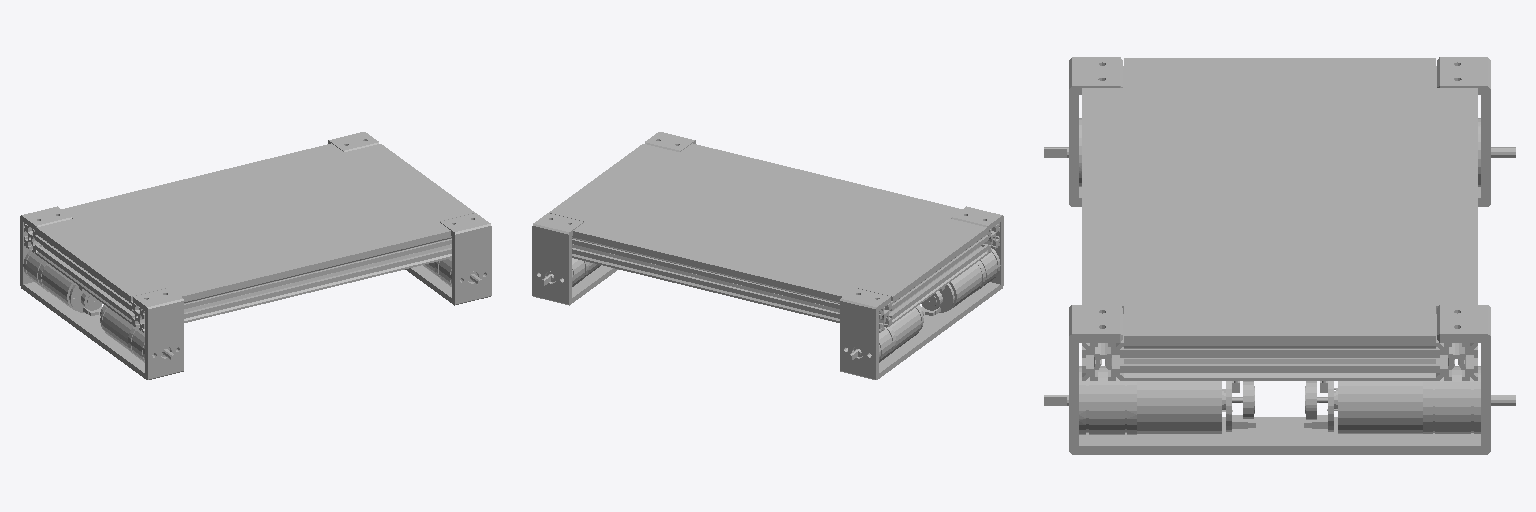
URDF robot description (work_description):
<?xml version="1.0" encoding="utf-8"?>
<!-- This URDF was automatically created by SolidWorks to URDF Exporter! Originally created by [author] ([email redacted]) 
     Commit Version: 1.6.0-4-g7f85cfe  Build Version: 1.6.7995.38578
     For more information, please see http://wiki.ros.org/sw_urdf_exporter -->
<robot
  name="work_description">
  <link
    name="base_link">
    <inertial>
      <origin
        xyz="-1.6536E-16 5.3437E-17 -0.015636"
        rpy="0 0 0" />
      <mass
        value="0.36521" />
      <inertia
        ixx="0.00039748"
        ixy="-4.0792E-09"
        ixz="7.1512E-18"
        iyy="0.00072454"
        iyz="-1.3042E-18"
        izz="0.0010802" />
    </inertial>
    <visual>
      <origin
        xyz="0 0 0"
        rpy="0 0 0" />
      <geometry>
        <mesh
          filename="package://work_description/meshes/base_link.STL" />
      </geometry>
      <material
        name="">
        <color
          rgba="0.75294 0.75294 0.75294 1" />
      </material>
    </visual>
    <collision>
      <origin
        xyz="0 0 0"
        rpy="0 0 0" />
      <geometry>
        <mesh
          filename="package://work_description/meshes/base_link.STL" />
      </geometry>
    </collision>
  </link>
  <link
    name="fr_wheel_link">
    <inertial>
      <origin
        xyz="1.66533453693773E-16 -0.0115706302587884 5.96744875736022E-16"
        rpy="0 0 0" />
      <mass
        value="0.0419122672527564" />
      <inertia
        ixx="3.67885981146547E-06"
        ixy="6.45200877791362E-23"
        ixz="-2.38393452537783E-21"
        iyy="3.56707503790107E-06"
        iyz="8.98318145232588E-22"
        izz="3.67885981146549E-06" />
    </inertial>
    <visual>
      <origin
        xyz="0 0 0"
        rpy="0 0 0" />
      <geometry>
        <mesh
          filename="package://work_description/meshes/fr_wheel_link.STL" />
      </geometry>
      <material
        name="">
        <color
          rgba="0.752941176470588 0.752941176470588 0.752941176470588 1" />
      </material>
    </visual>
    <collision>
      <origin
        xyz="0 0 0"
        rpy="0 0 0" />
      <geometry>
        <mesh
          filename="package://work_description/meshes/fr_wheel_link.STL" />
      </geometry>
    </collision>
  </link>
  <joint
    name="fr_wheel_joint"
    type="continuous">
    <origin
      xyz="0.10615 -0.085325 -0.0303"
      rpy="0 0 0" />
    <parent
      link="base_link" />
    <child
      link="fr_wheel_link" />
    <axis
      xyz="0 -1 0" />
  </joint>
  <link
    name="fl_wheel_link">
    <inertial>
      <origin
        xyz="5.49560397189452E-15 0.0115948509779991 -7.70217223333702E-16"
        rpy="0 0 0" />
      <mass
        value="0.0419122672520916" />
      <inertia
        ixx="3.6788853190231E-06"
        ixy="-1.12496563307212E-21"
        ixz="9.30180174214532E-21"
        iyy="3.56689493673297E-06"
        iyz="-7.02557693849277E-22"
        izz="3.67888531902309E-06" />
    </inertial>
    <visual>
      <origin
        xyz="0 0 0"
        rpy="0 0 0" />
      <geometry>
        <mesh
          filename="package://work_description/meshes/fl_wheel_link.STL" />
      </geometry>
      <material
        name="">
        <color
          rgba="0.752941176470588 0.752941176470588 0.752941176470588 1" />
      </material>
    </visual>
    <collision>
      <origin
        xyz="0 0 0"
        rpy="0 0 0" />
      <geometry>
        <mesh
          filename="package://work_description/meshes/fl_wheel_link.STL" />
      </geometry>
    </collision>
  </link>
  <joint
    name="fl_wheel_joint"
    type="continuous">
    <origin
      xyz="0.10615 0.085325 -0.0303"
      rpy="0 0 0" />
    <parent
      link="base_link" />
    <child
      link="fl_wheel_link" />
    <axis
      xyz="0 1 0" />
  </joint>
  <link
    name="br_wheel_link">
    <inertial>
      <origin
        xyz="5.74540415243519E-15 -0.0114994298530527 -2.81025203108243E-16"
        rpy="0 0 0" />
      <mass
        value="0.0419122672520916" />
      <inertia
        ixx="3.6788853190231E-06"
        ixy="-5.97224402263286E-22"
        ixz="9.4794898198577E-21"
        iyy="3.56689493673298E-06"
        iyz="-2.31610571514848E-22"
        izz="3.6788853190231E-06" />
    </inertial>
    <visual>
      <origin
        xyz="0 0 0"
        rpy="0 0 0" />
      <geometry>
        <mesh
          filename="package://work_description/meshes/br_wheel_link.STL" />
      </geometry>
      <material
        name="">
        <color
          rgba="0.752941176470588 0.752941176470588 0.752941176470588 1" />
      </material>
    </visual>
    <collision>
      <origin
        xyz="0 0 0"
        rpy="0 0 0" />
      <geometry>
        <mesh
          filename="package://work_description/meshes/br_wheel_link.STL" />
      </geometry>
    </collision>
  </link>
  <joint
    name="br_wheel_joint"
    type="continuous">
    <origin
      xyz="-0.10615 -0.085325 -0.0303"
      rpy="0 0 0" />
    <parent
      link="base_link" />
    <child
      link="br_wheel_link" />
    <axis
      xyz="0 -1 0" />
  </joint>
  <link
    name="bl_wheel_link">
    <inertial>
      <origin
        xyz="0 0 0"
        rpy="0 0 0" />
      <mass
        value="0" />
      <inertia
        ixx="0"
        ixy="0"
        ixz="0"
        iyy="0"
        iyz="0"
        izz="0" />
    </inertial>
    <visual>
      <origin
        xyz="0 0 0"
        rpy="0 0 0" />
      <geometry>
        <mesh
          filename="package://work_description/meshes/bl_wheel_link.STL" />
      </geometry>
      <material
        name="">
        <color
          rgba="1 1 1 1" />
      </material>
    </visual>
    <collision>
      <origin
        xyz="0 0 0"
        rpy="0 0 0" />
      <geometry>
        <mesh
          filename="package://work_description/meshes/bl_wheel_link.STL" />
      </geometry>
    </collision>
  </link>
  <joint
    name="bl_wheel_joint"
    type="continuous">
    <origin
      xyz="-0.10615 0.085325 -0.0303"
      rpy="0 0 0" />
    <parent
      link="base_link" />
    <child
      link="bl_wheel_link" />
    <axis
      xyz="0 1 0" />
  </joint>


  <gazebo>
    <plugin name="omni_steering" filename="libgazebo_ros_planar_move.so">
      <commandTopic>cmd_vel</commandTopic>
      <odometryTopic>odom</odometryTopic>
      <odometryFrame>odom</odometryFrame>
      <robotBaseFrame>base_footprint</robotBaseFrame>
      <odometryRate>50</odometryRate>      
      <publishWheelTF>false</publishWheelTF>
    </plugin>
  </gazebo>
  
</robot>

--- Facts derived from the render (not from the file) ---
3 views of the same robot in one strip: view 1: azimuth 30°, elevation 25°; view 2: azimuth 150°, elevation 25°; view 3: azimuth 270°, elevation 25° (orthographic).
Robot: work_description — 5 links, 4 joints (4 continuous); root link base_link; default pose: every joint at zero.
Visible links, largest first — view 1: base_link; view 2: base_link; view 3: base_link.
Link boxes in pixels (<box>): base_link: <box>20,132,491,379</box>; base_link: <box>532,132,1003,379</box>; base_link: <box>1044,57,1515,454</box>.
Bounding box of the posed robot: 0.238 × 0.1707 × 0.0483 m (x, y, z).
1 mesh visuals loaded from 5 distinct referenced files (1 binary STL); not drawn: 4 (reference not matched to a file when rendering).